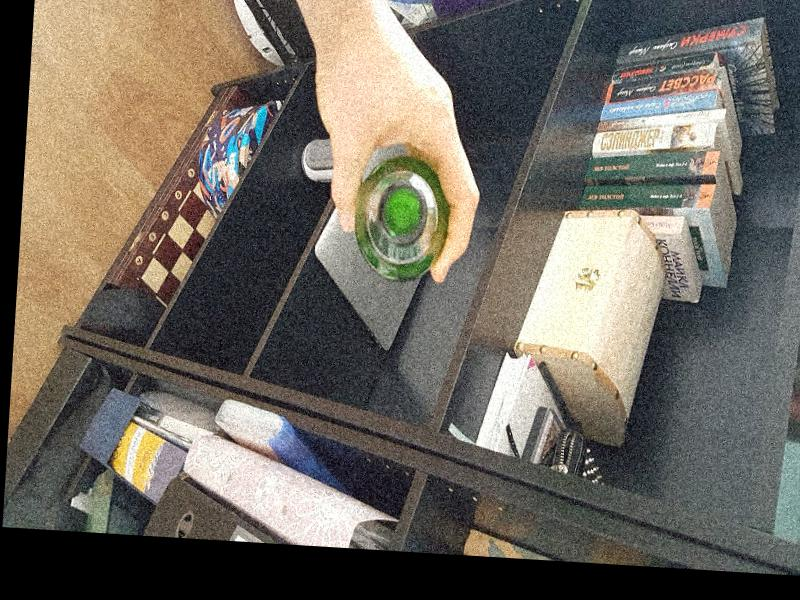Beer: (349, 156, 451, 277)
